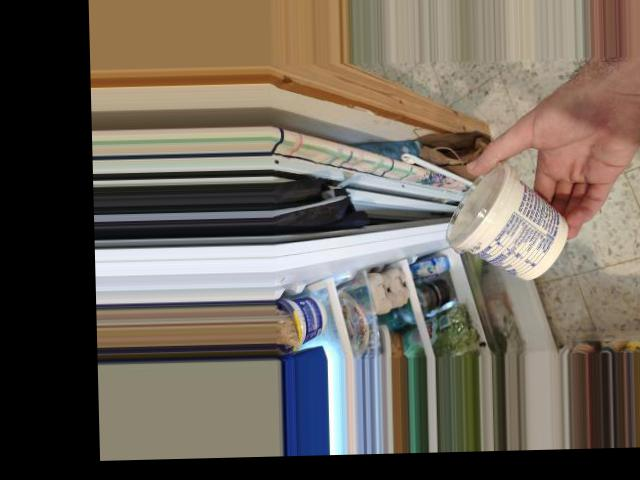cotage: (437, 161, 553, 278)
